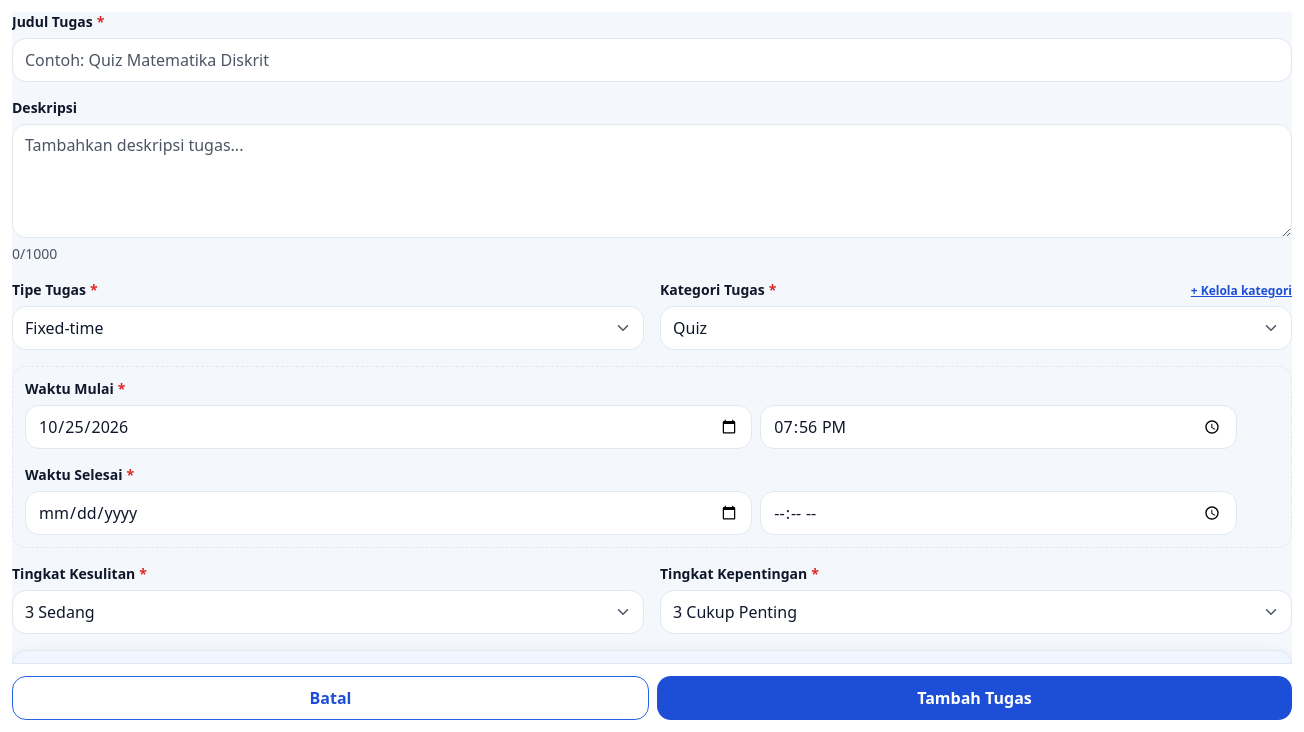
Scenario: TaskForm › meminta judul dan kategori sebelum mengirim apa pun
Step 1. Select "Pilih kategori" in the dropdown labelled "Kategori Tugas* + Kelola kategori" → {"x": 976, "y": 328}, box [660,306,1292,350]
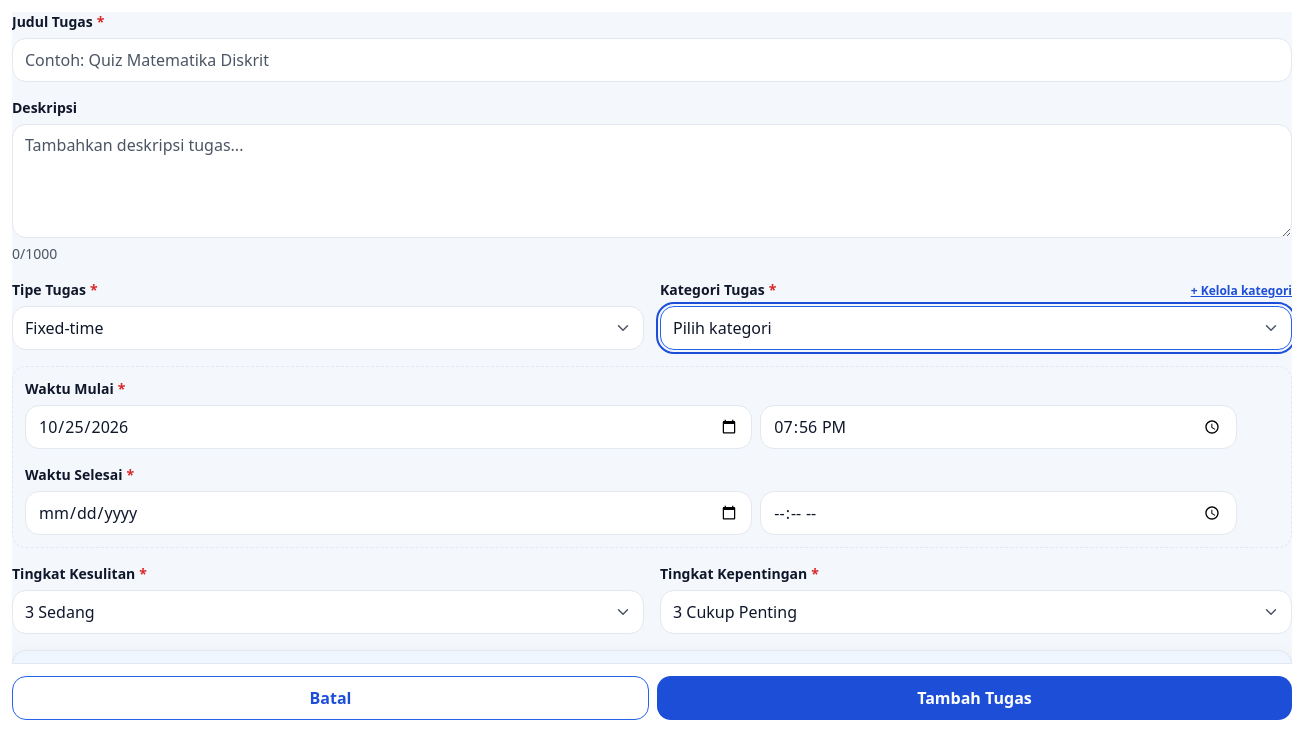
Step 2. Click the button "Tambah Tugas" → {"x": 974, "y": 698}, box [657,676,1292,720]
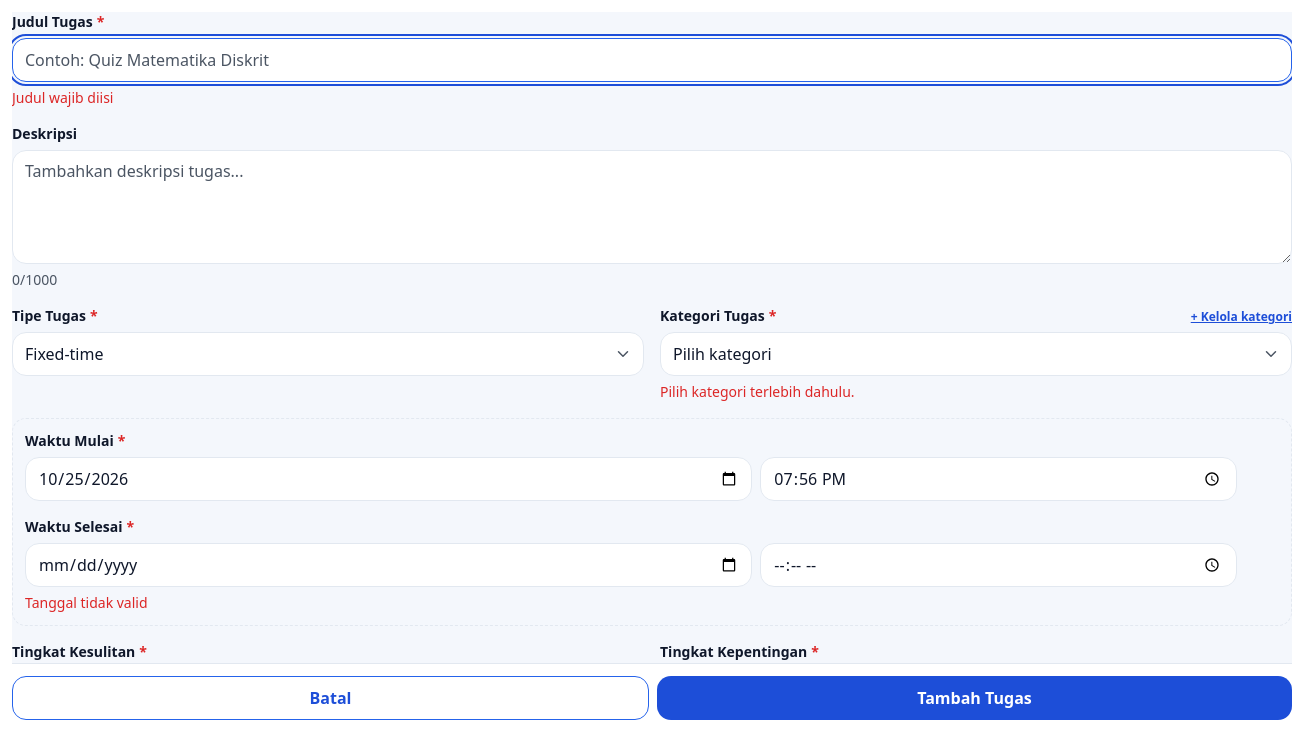
Result: the text "Judul wajib diisi" is shown at [12,88,114,107]
Result: the text "Pilih kategori terlebih dahulu." is shown at [660,382,854,401]
